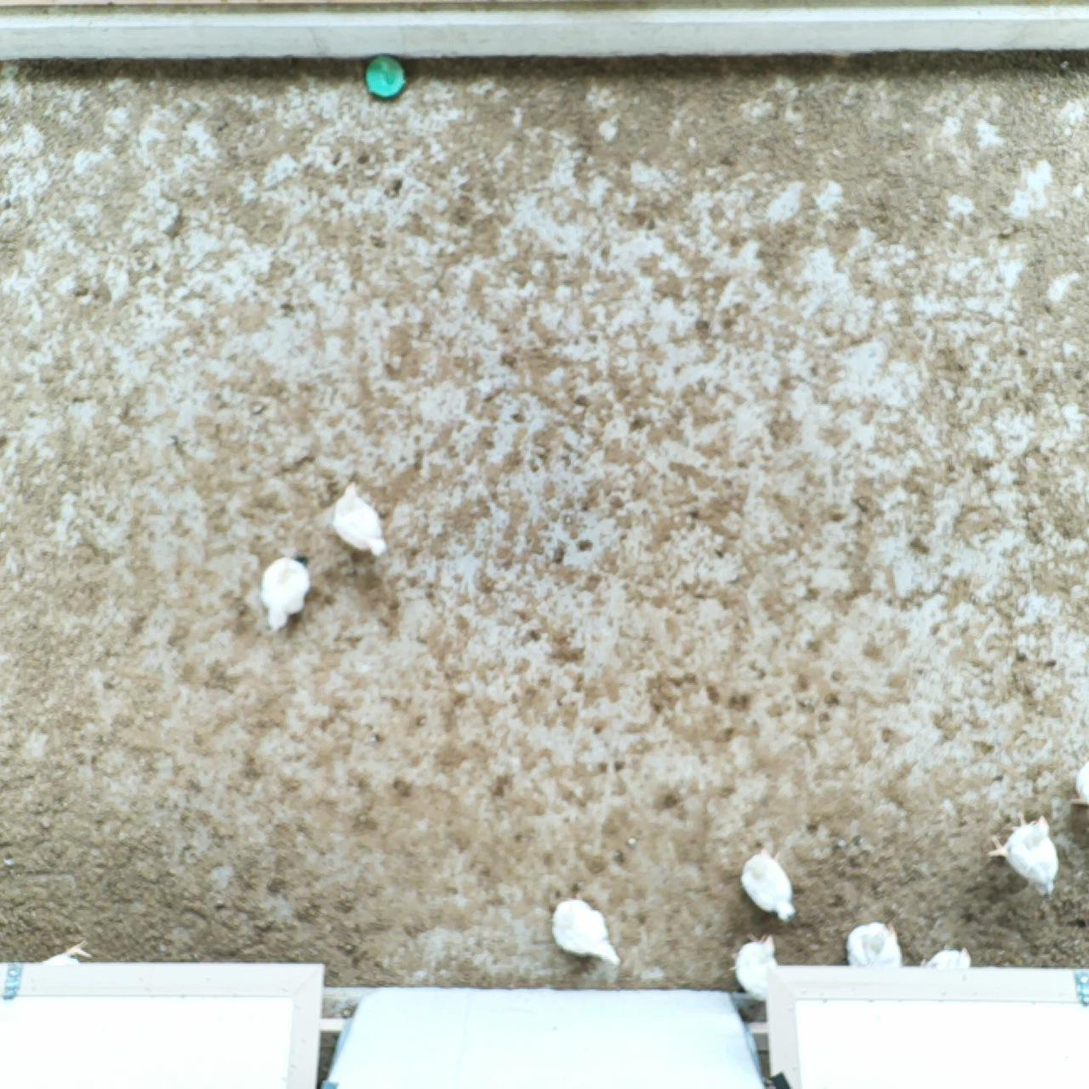chicken: (984, 802, 1064, 895), (546, 890, 625, 969), (736, 841, 804, 920), (331, 477, 390, 561), (256, 552, 313, 633), (724, 927, 784, 997), (845, 919, 907, 971), (917, 939, 976, 971)
